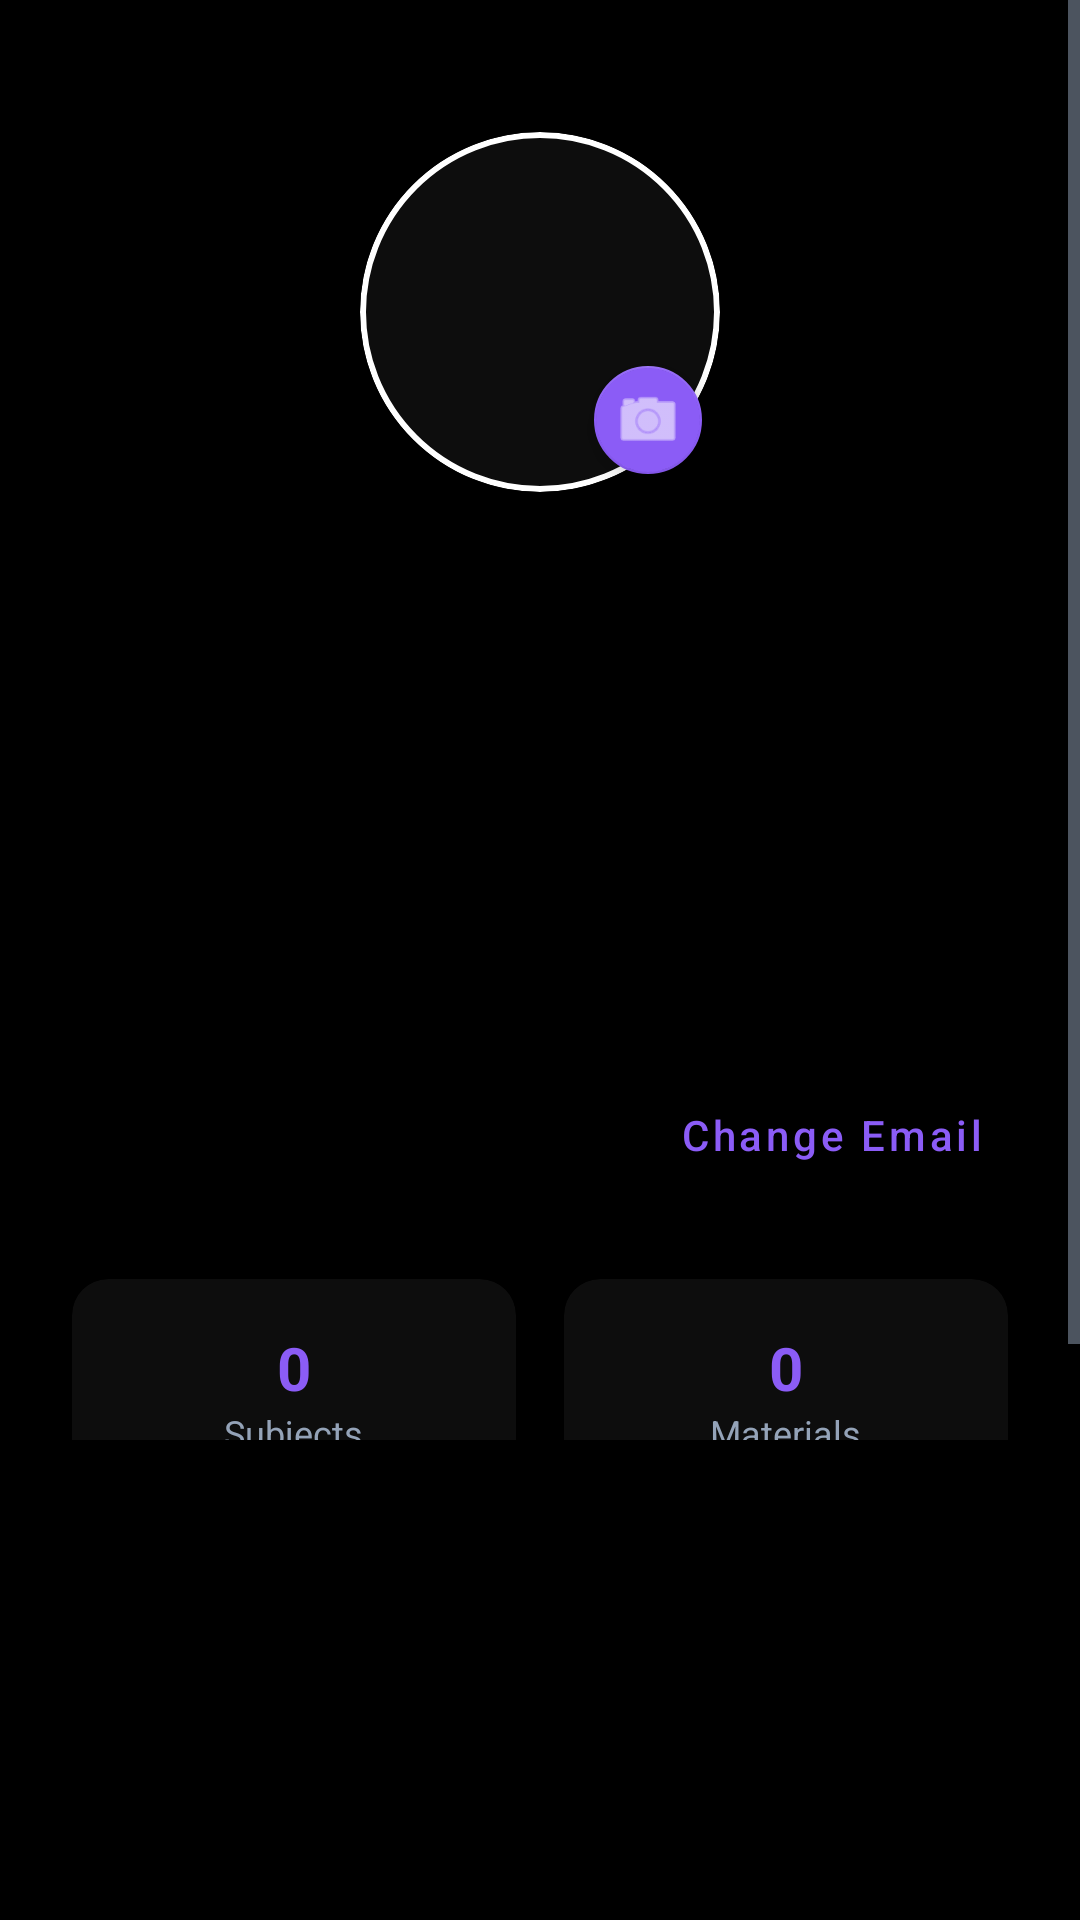

Icon click points for this 1080×1920 phone screenshot, format [x,y]:
camera: [646,418]
